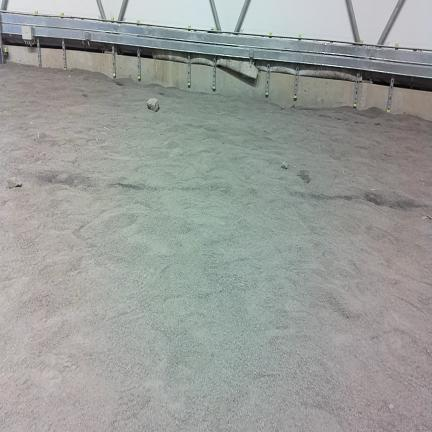Rock: (147, 98, 159, 111), (7, 177, 21, 188), (298, 170, 310, 182), (281, 162, 288, 169), (389, 404, 394, 409), (83, 93, 87, 97)
